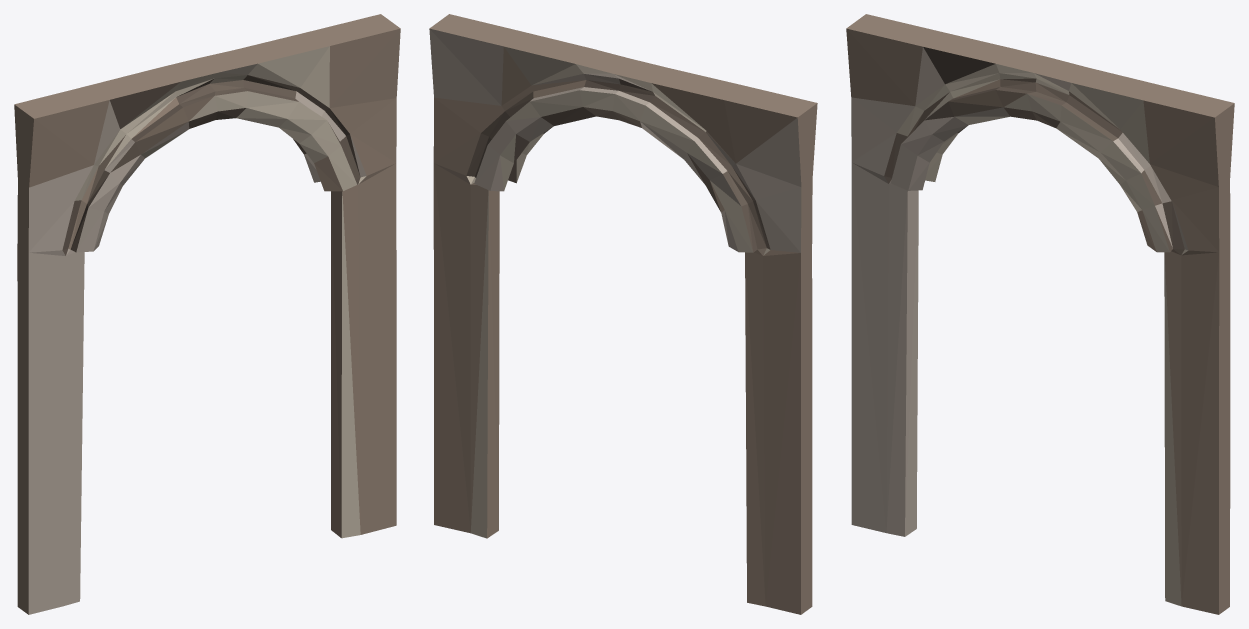
File: RG-Dungeon_Arch.fbx
The picture shows the model from 3 angles, left to right: view 1: azimuth 30°, elevation 25°; view 2: azimuth 150°, elevation 25°; view 3: azimuth 330°, elevation 25°; orthographic projection.
Visible parts, largest first — view 1: RG-Dungeon_Arch; view 2: RG-Dungeon_Arch; view 3: RG-Dungeon_Arch.
Part boxes in pixels (bbox=[...]): RG-Dungeon_Arch: bbox=[14, 14, 400, 614]; RG-Dungeon_Arch: bbox=[429, 14, 817, 614]; RG-Dungeon_Arch: bbox=[846, 14, 1234, 614].
Bounding box in the file's own units: 20 × 26 × 2.01.
